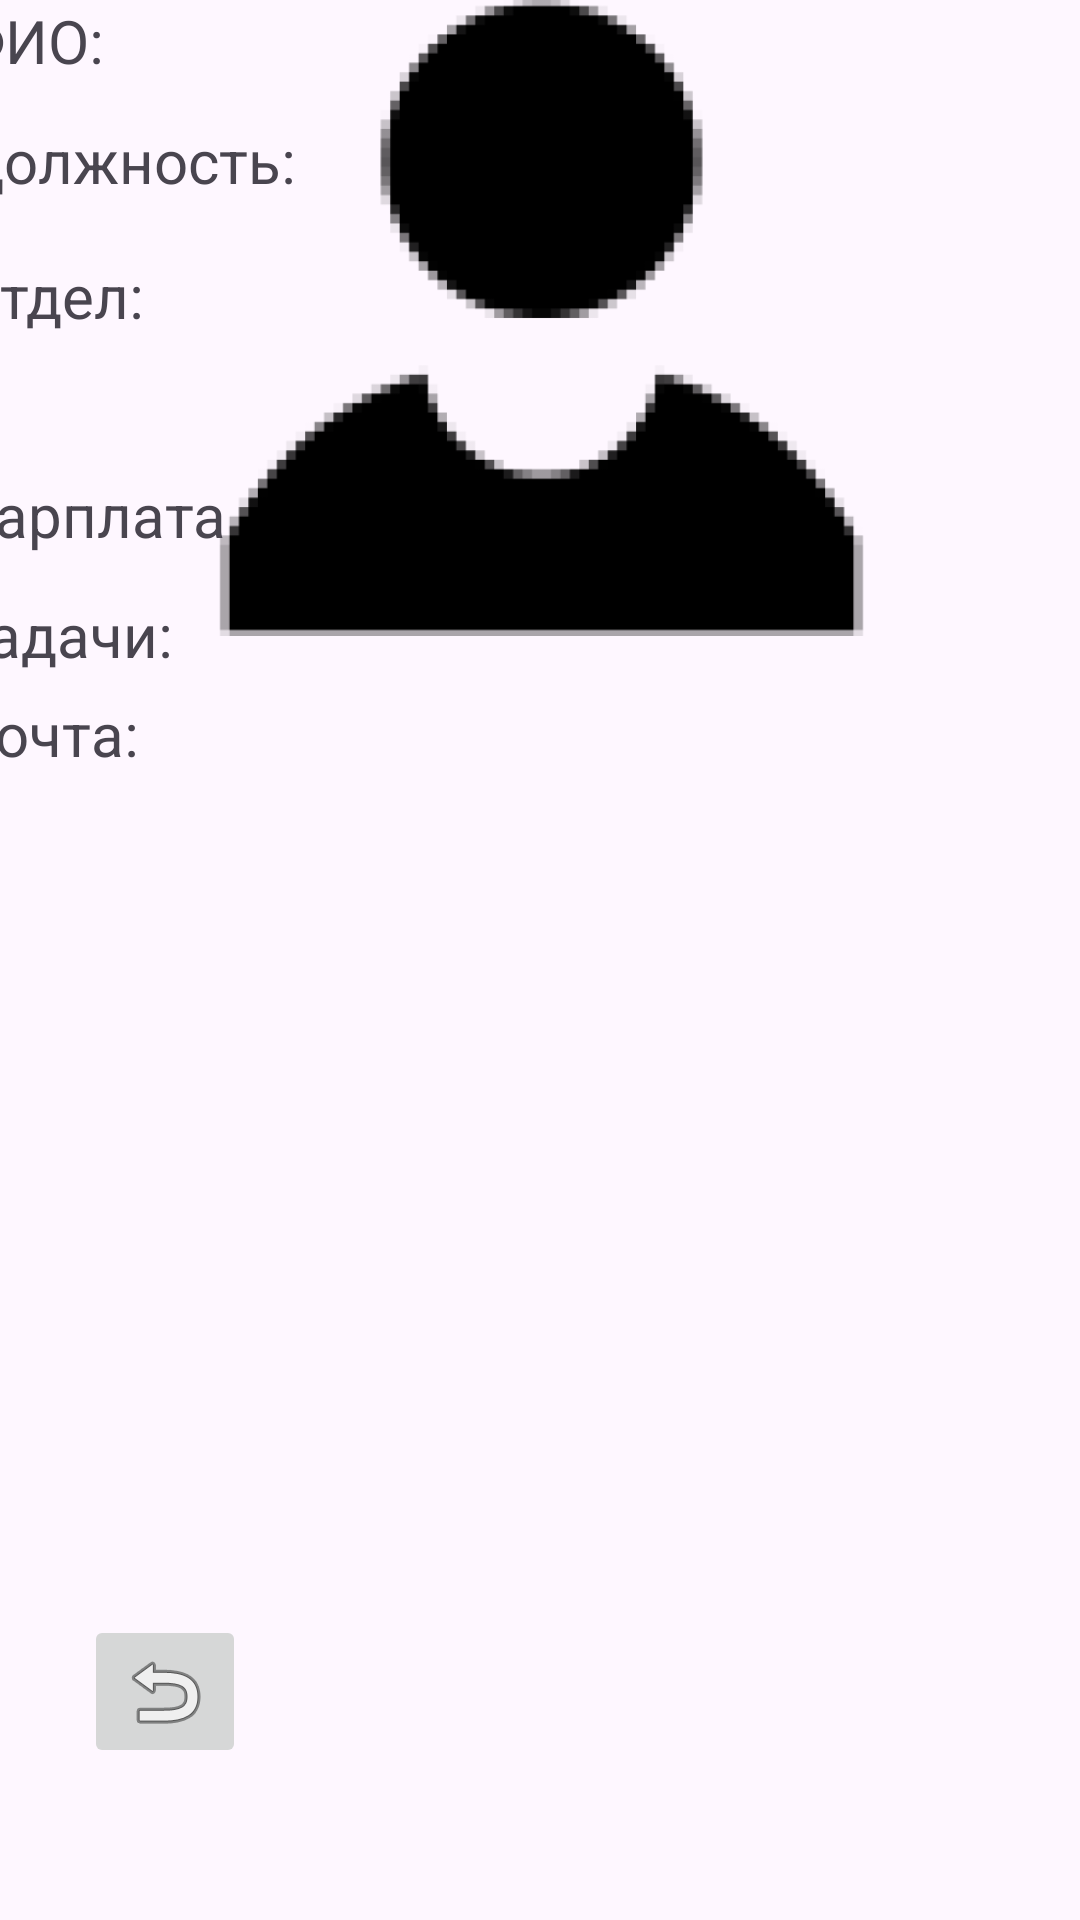

Point at icon controls on the screen. Image size 1080w x 1920h, points as point (x, y).
revert: point (165, 1691)
